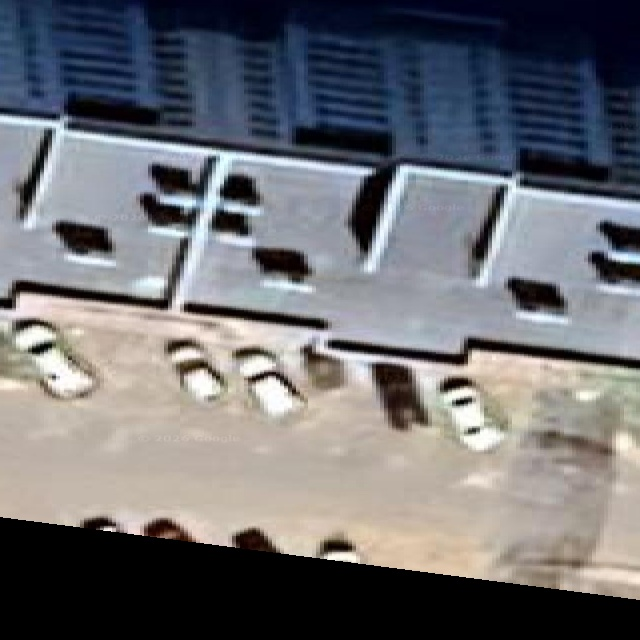car: (13, 320, 95, 395), (233, 347, 303, 417), (440, 376, 504, 451), (372, 363, 427, 430), (167, 340, 226, 400), (506, 278, 566, 316), (150, 163, 200, 208), (301, 340, 344, 390), (52, 220, 111, 256), (140, 192, 193, 232), (252, 248, 311, 283), (220, 172, 260, 215), (588, 253, 639, 283), (211, 208, 252, 244), (597, 220, 639, 252), (148, 163, 196, 191), (232, 527, 280, 552), (316, 536, 362, 562), (79, 515, 123, 532)
